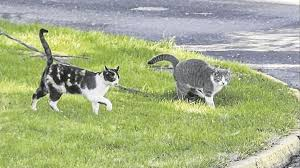cat: (28, 17, 125, 129), (143, 50, 241, 113)
